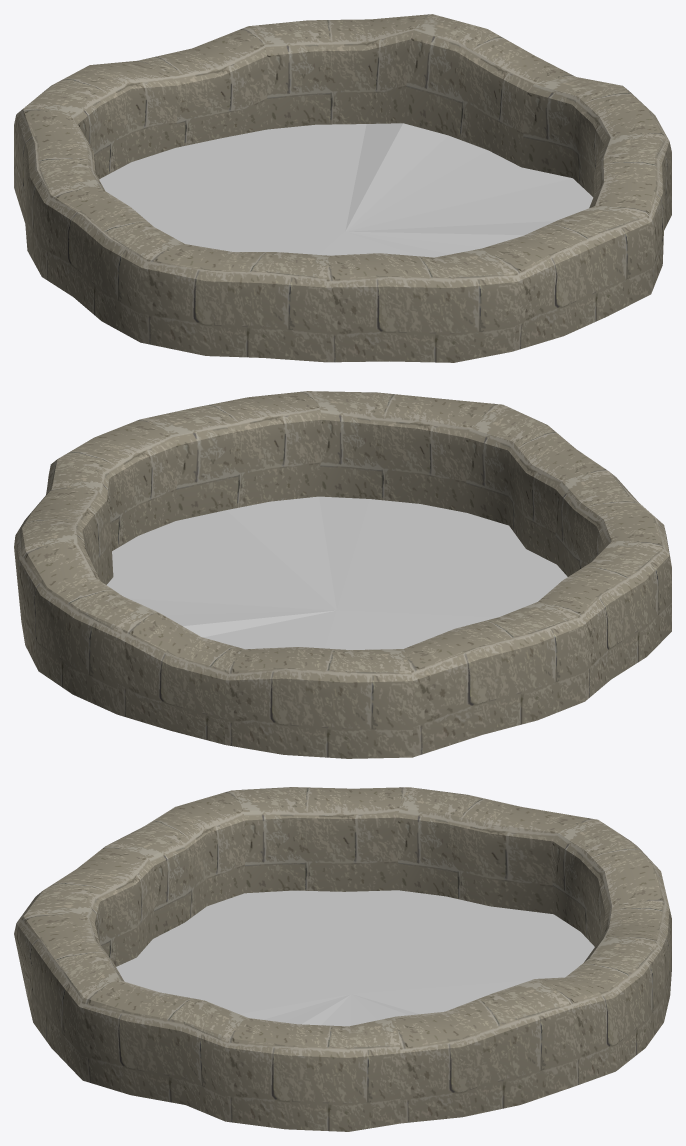
File: StoneCircle.FBX
3 views of the same model, one above another, from view 1: azimuth 30°, elevation 25°; view 2: azimuth 150°, elevation 25°; view 3: azimuth 270°, elevation 25° (orthographic). The views are drawn at different scales.
Parts seen in each view (by area): view 1: StoneCircle; view 2: StoneCircle; view 3: StoneCircle.
Part boxes in pixels (box(x1,y1,x2,y2)): StoneCircle: box(14, 14, 671, 362); StoneCircle: box(14, 391, 671, 758); StoneCircle: box(14, 787, 671, 1131).
Size of the model in its own units: 68.51 by 70.68 by 11.9.
